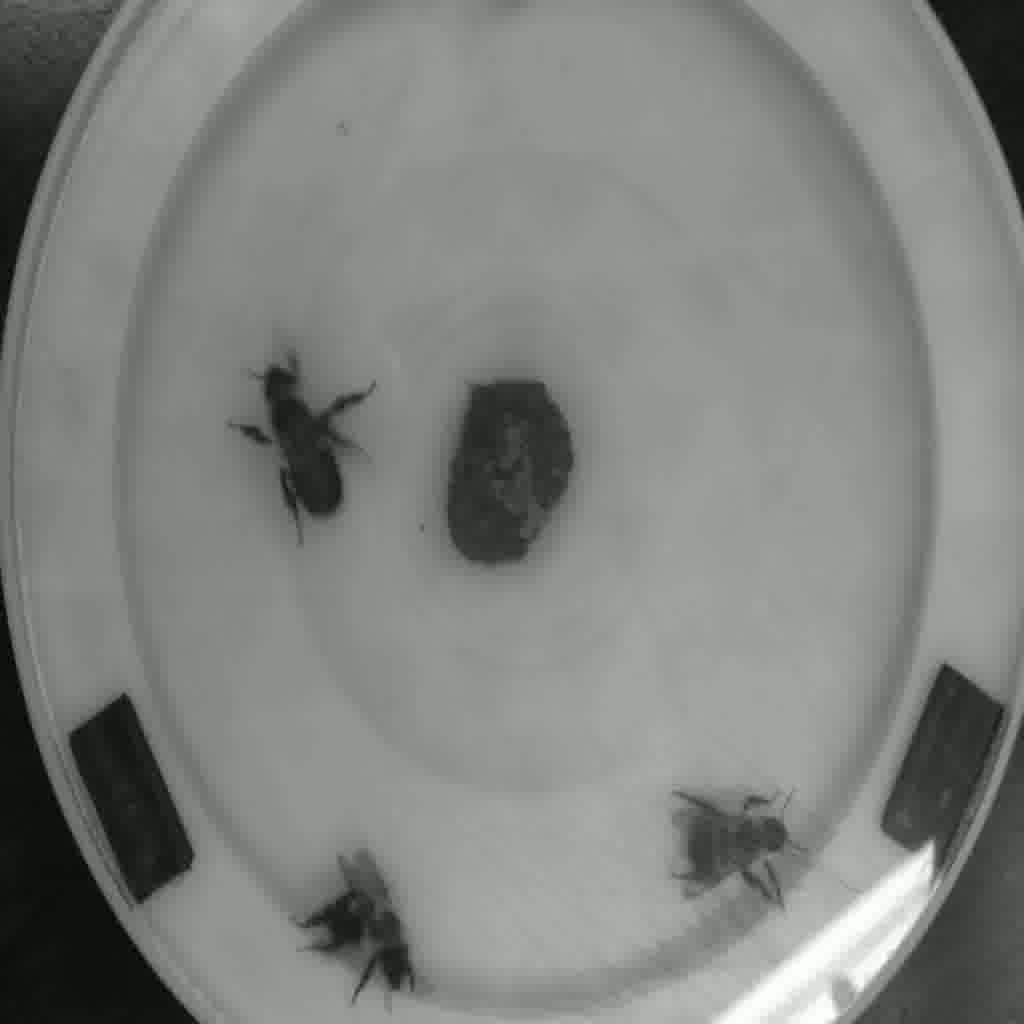bee: (243, 348, 393, 533), (643, 762, 808, 925), (299, 835, 458, 1003)
